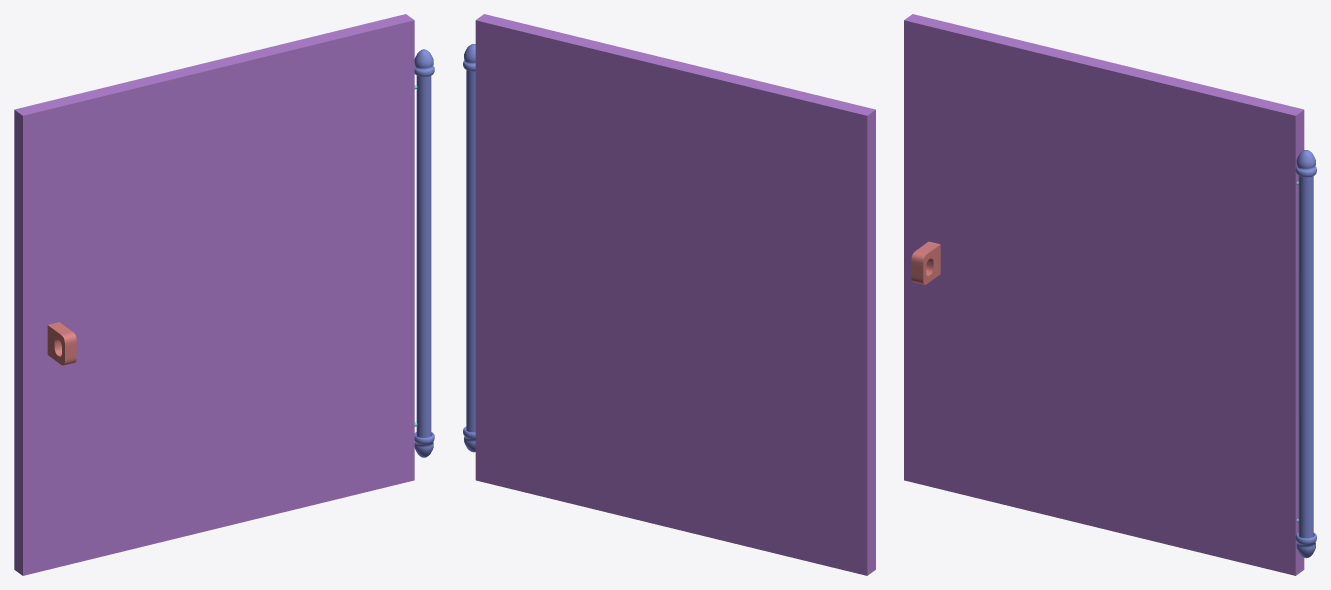
Rendered from porte_com_d.fbx.
The picture shows the model from 3 angles, left to right: view 1: azimuth 30°, elevation 25°; view 2: azimuth 150°, elevation 25°; view 3: azimuth 330°, elevation 25°; orthographic projection.
Parts seen in each view (by area): view 1: Object008; view 2: Object008; view 3: Object008.
Boxes of the visible parts, <box> form: Object008: <box>14,14,434,575</box>; Object008: <box>463,14,875,575</box>; Object008: <box>904,14,1316,575</box>.
Size of the model in its own units: 0.4141 by 0.4429 by 0.0453.
